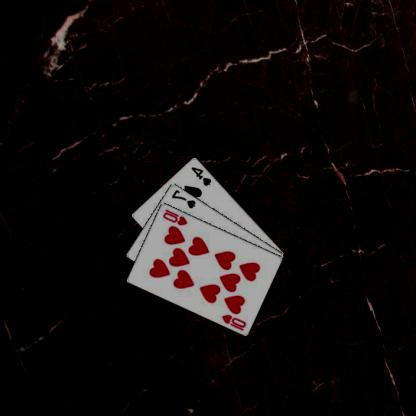10H: (221, 312, 249, 332), (162, 207, 190, 226)
4S: (190, 164, 214, 187)
7S: (170, 187, 198, 209)
